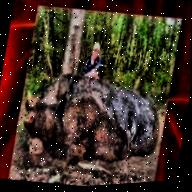boar: (20, 44, 176, 177)
